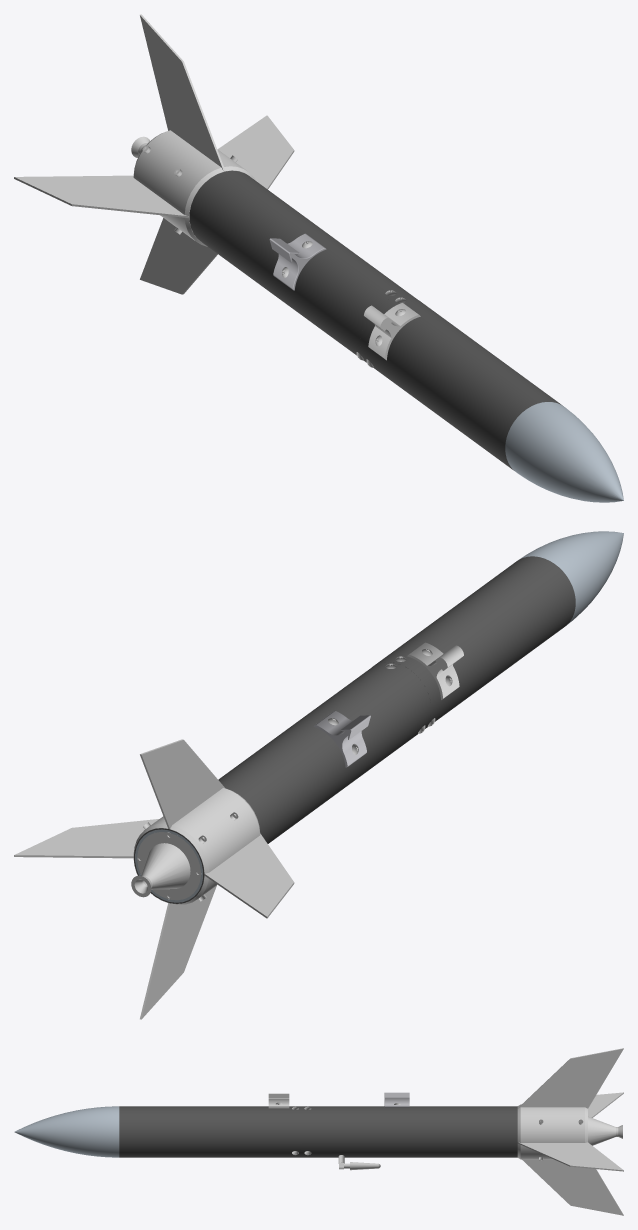
Rendered from GST v2.gltf.
3 renders of one model, top to bottom at view 1: azimuth 30°, elevation 25°; view 2: azimuth 150°, elevation 25°; view 3: azimuth 270°, elevation 25°, orthographic. The views are drawn at different scales.
Visible parts, largest first — view 1: object 2, fin final for ansys v1, screw 5/32*3/8??R3.5 9.5mm) v1 (×2), antenna small v1; view 2: object 2, fin final for ansys v1, screw 5/32*3/8??R3.5 9.5mm) v1 (×2), engine final v1, antenna small v1; view 3: object 2, fin final for ansys v1, screw 5/32*3/8??R3.5 9.5mm) v1 (×2), engine final v1, antenna small v1, screw 5/32*1/2??R3.5 13mm) v1.
Part boxes in pixels (x1,y1,x2,y2): object 2: (189, 170, 562, 470); fin final for ansys v1: (14, 14, 294, 294); screw 5/32*3/8??R3.5 9.5mm) v1 (×2): (269, 233, 623, 502); antenna small v1: (364, 303, 420, 360); object 2: (134, 556, 575, 903); fin final for ansys v1: (14, 739, 294, 1019); screw 5/32*3/8??R3.5 9.5mm) v1 (×2): (313, 531, 623, 767); engine final v1: (131, 832, 201, 900); antenna small v1: (407, 642, 463, 699); object 2: (119, 1106, 517, 1157); fin final for ansys v1: (517, 1048, 623, 1215); screw 5/32*3/8??R3.5 9.5mm) v1 (×2): (14, 1092, 409, 1157); engine final v1: (588, 1116, 622, 1145); antenna small v1: (268, 1093, 289, 1108); screw 5/32*1/2??R3.5 13mm) v1: (338, 1155, 380, 1170).
Size of the model in its own units: 22.24 by 22.24 by 73.54.
